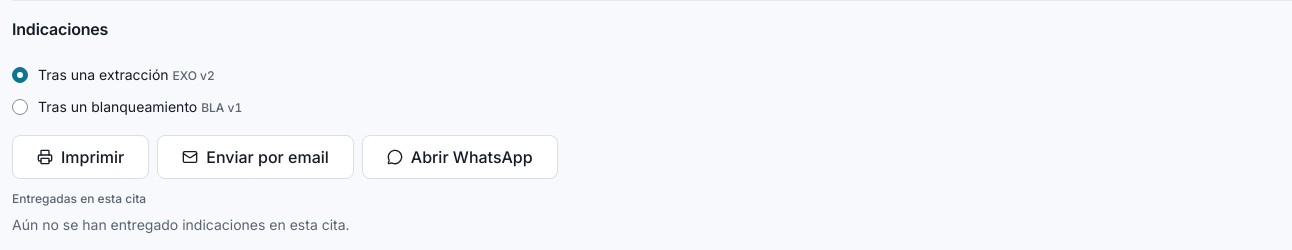
Test: AppointmentPostOpPanel › tras entregar, la lista «Entregadas en esta cita» se refresca
Expected: the text "Aún no se han entregado indicaciones en esta cita." is shown, 12,216 -> 350,233
Click the button "Enviar por email" at (256, 157), box 157,135 -> 354,179
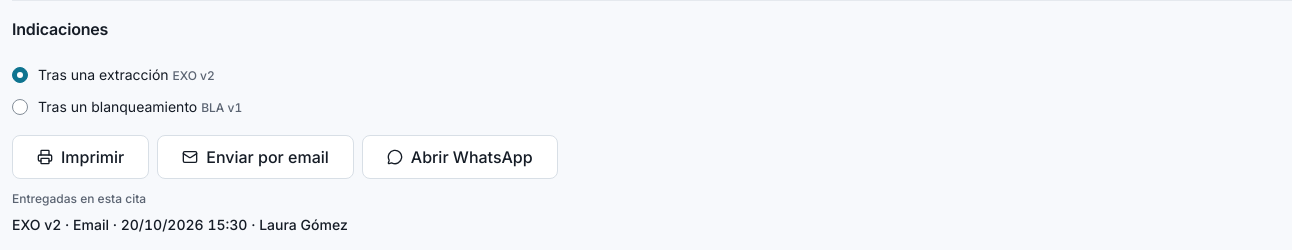
Expected: the list item reads "EXO v2 · Email · 20/10/2026 15:30 · Laura Gómez", 12,216 -> 348,233
